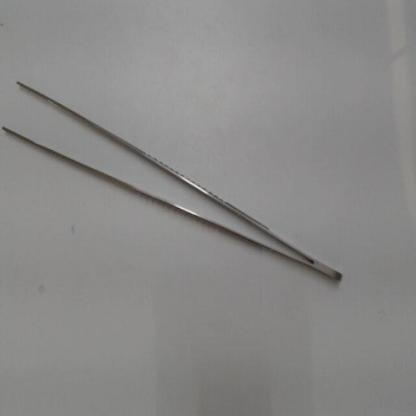DeBakey Dissector: (4, 63, 370, 332)
